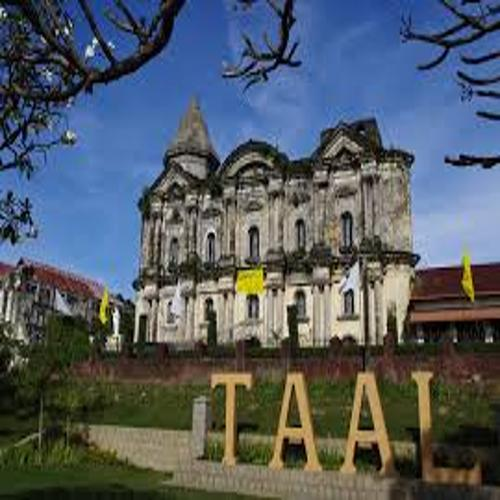Taal Basilica Church: (130, 86, 430, 356)
